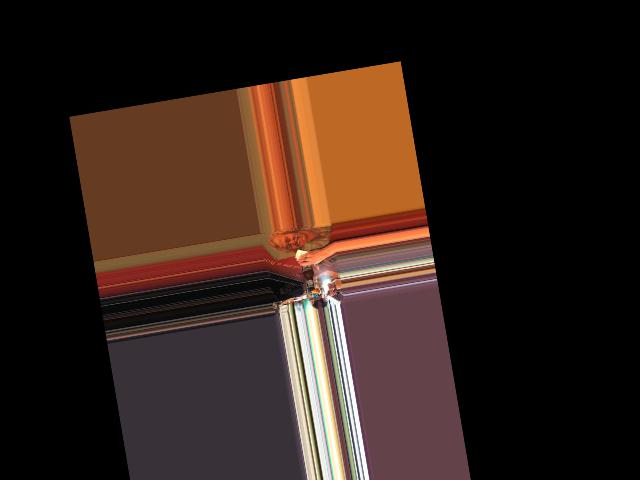beer: (299, 253, 315, 293)
